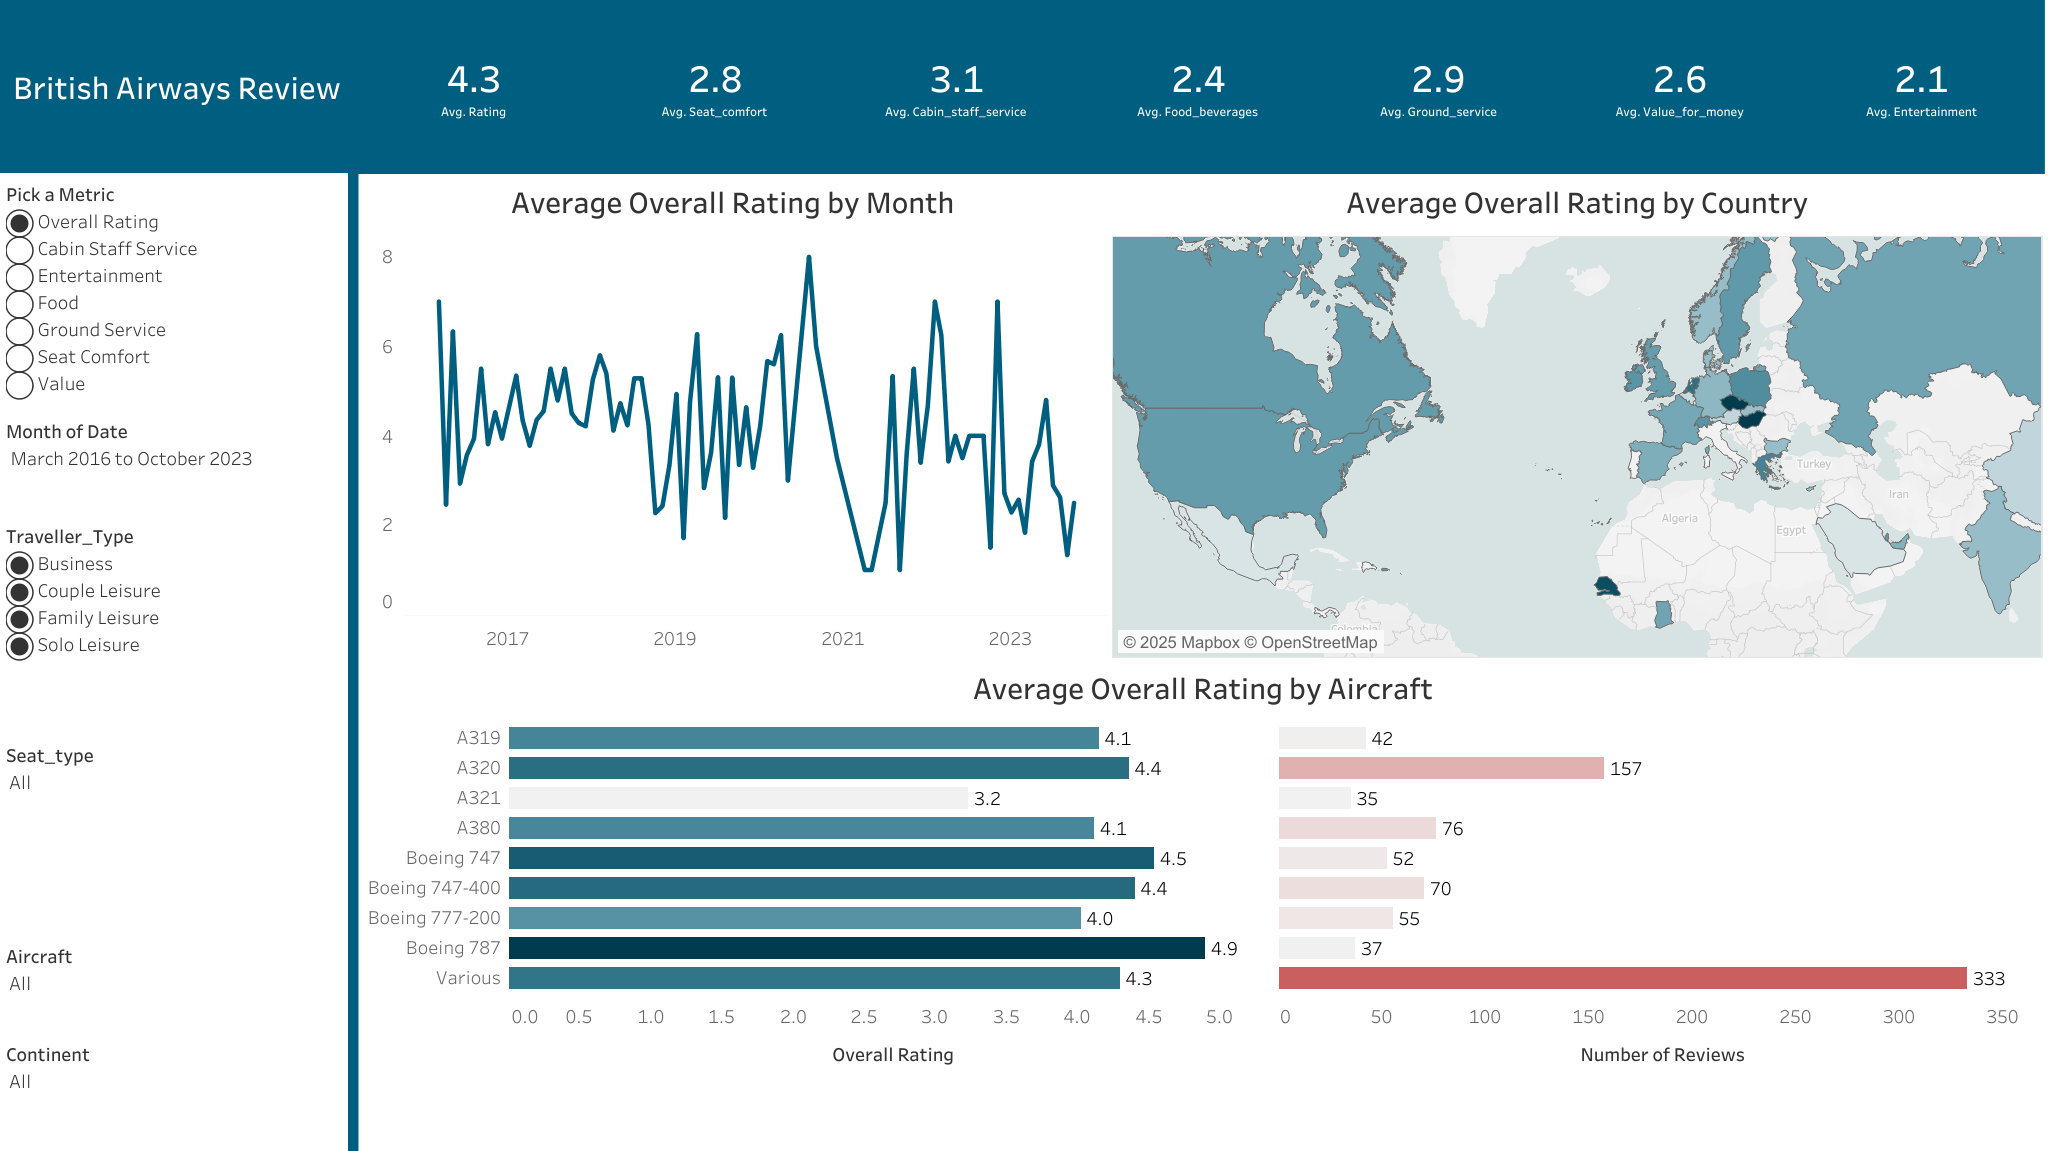

This screenshot's page, from the dashboard's own definition file:
{"tool":"tableau","page":{"name":"Dashboard 1","canvas":[1366,768],"ordinal":0},"visuals":[{"type":"title","box":[0,0,236,115]},{"type":"worksheet","title":"Sheet 5","mark":"Automatic","box":[236,0,1126,115]},{"type":"blank","box":[232.1,106,6.7,665]},{"type":"parameter","param":"[Parameters].[Parameter 1]","box":[0,115,231,158]},{"type":"worksheet","title":"Month","mark":"Automatic","rows":["Calculation_586030960281120769"],"cols":["date"],"box":[239,115,499,324]},{"type":"worksheet","title":"Country","mark":"Automatic","box":[741,115,621,324]},{"type":"filter","title":"Country","param":"[federated.0t2c2dl1og59tw12kicqm16d3xc1].[tmn:date:qk]","box":[0,273,231,77]},{"type":"filter","title":"Country","param":"[federated.0t2c2dl1og59tw12kicqm16d3xc1].[none:traveller_type:nk]","box":[0,350,231,146]},{"type":"worksheet","title":"Avg/ Aircraft","mark":"Automatic","cols":["Calculation_586030960281120769","ba_reviews.csv_D1EAA9FDBF6A4E68A1A3B0229D91A8E2"],"box":[239,439,1126,329]},{"type":"filter","title":"Country","param":"[federated.0t2c2dl1og59tw12kicqm16d3xc1].[none:seat_type:nk]","box":[0,496,231,134]},{"type":"filter","title":"Country","param":"[federated.0t2c2dl1og59tw12kicqm16d3xc1].[Aircraft (group)]","box":[0,630,231,65]},{"type":"filter","title":"Country","param":"[federated.0t2c2dl1og59tw12kicqm16d3xc1].[none:Continent:nk]","box":[0,695,231,70]}]}

Visuals, with their boxes in screenshot pixels (x1, y1, x2, y2), scaled from the page's 1366x768 canvas onto the 2048x1151 screenshot:
title: x1=0, y1=0, x2=354, y2=172
"Sheet 5" worksheet: x1=354, y1=0, x2=2042, y2=172
blank: x1=348, y1=159, x2=358, y2=1150
parameter: x1=0, y1=172, x2=346, y2=409
"Month" worksheet: x1=358, y1=172, x2=1106, y2=658
"Country" worksheet: x1=1111, y1=172, x2=2042, y2=658
"Country" filter: x1=0, y1=409, x2=346, y2=525
"Country" filter: x1=0, y1=525, x2=346, y2=743
"Avg/ Aircraft" worksheet: x1=358, y1=658, x2=2047, y2=1150
"Country" filter: x1=0, y1=743, x2=346, y2=944
"Country" filter: x1=0, y1=944, x2=346, y2=1042
"Country" filter: x1=0, y1=1042, x2=346, y2=1147
